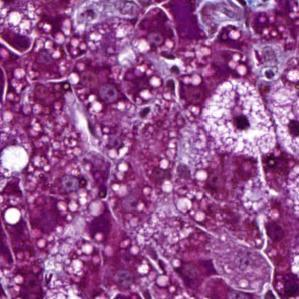ballooning: (200, 78, 278, 158), (264, 83, 296, 159), (3, 143, 32, 176)
